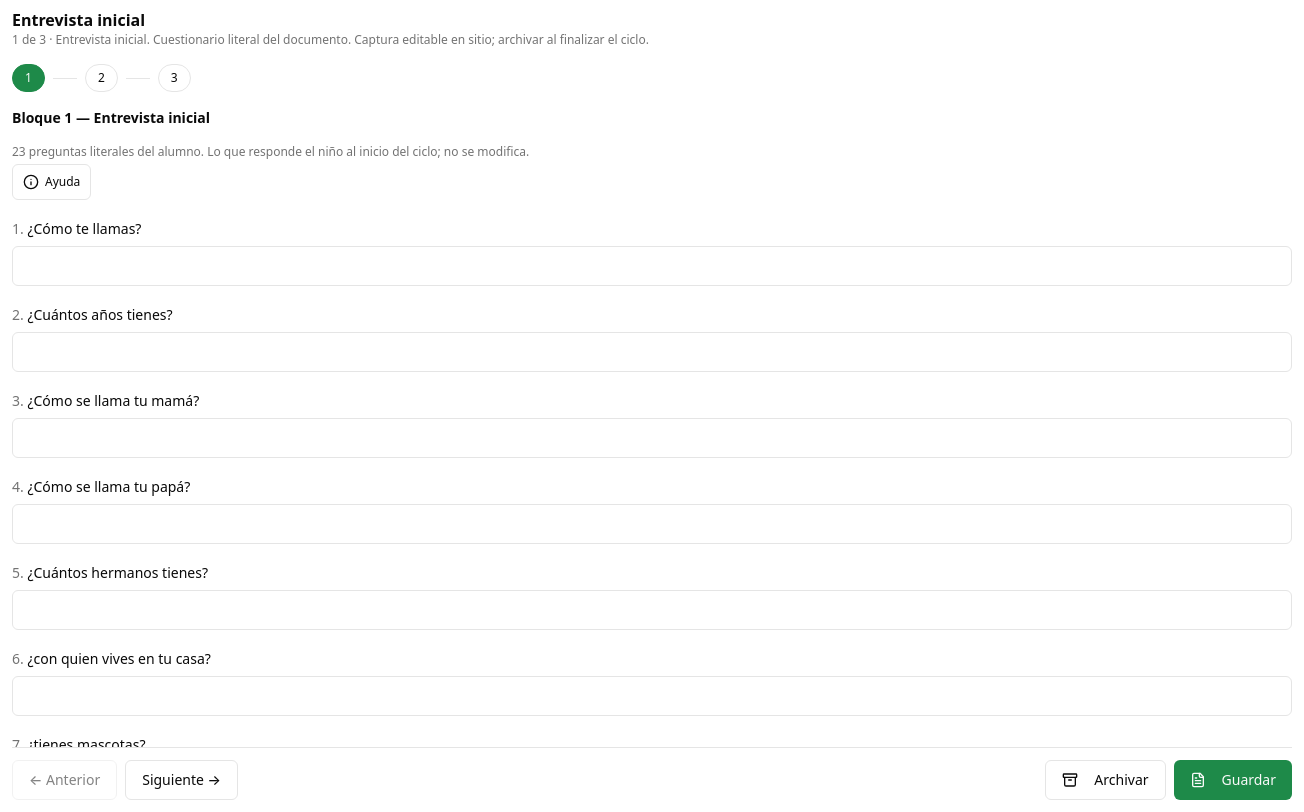
Test case: EntrevistaInicialForm — IMPL-20260821-01 (stepper UX) › DEC-20260821-02 — guía contextual por bloque › el tooltip abre con clic, muestra "qué se captura / para qué / quién / no-IA", y cierra con Escape
Step 1. Click the button with test id "section-help-infantil-bloque-1-button" → (52, 182), box [12,164,91,200]
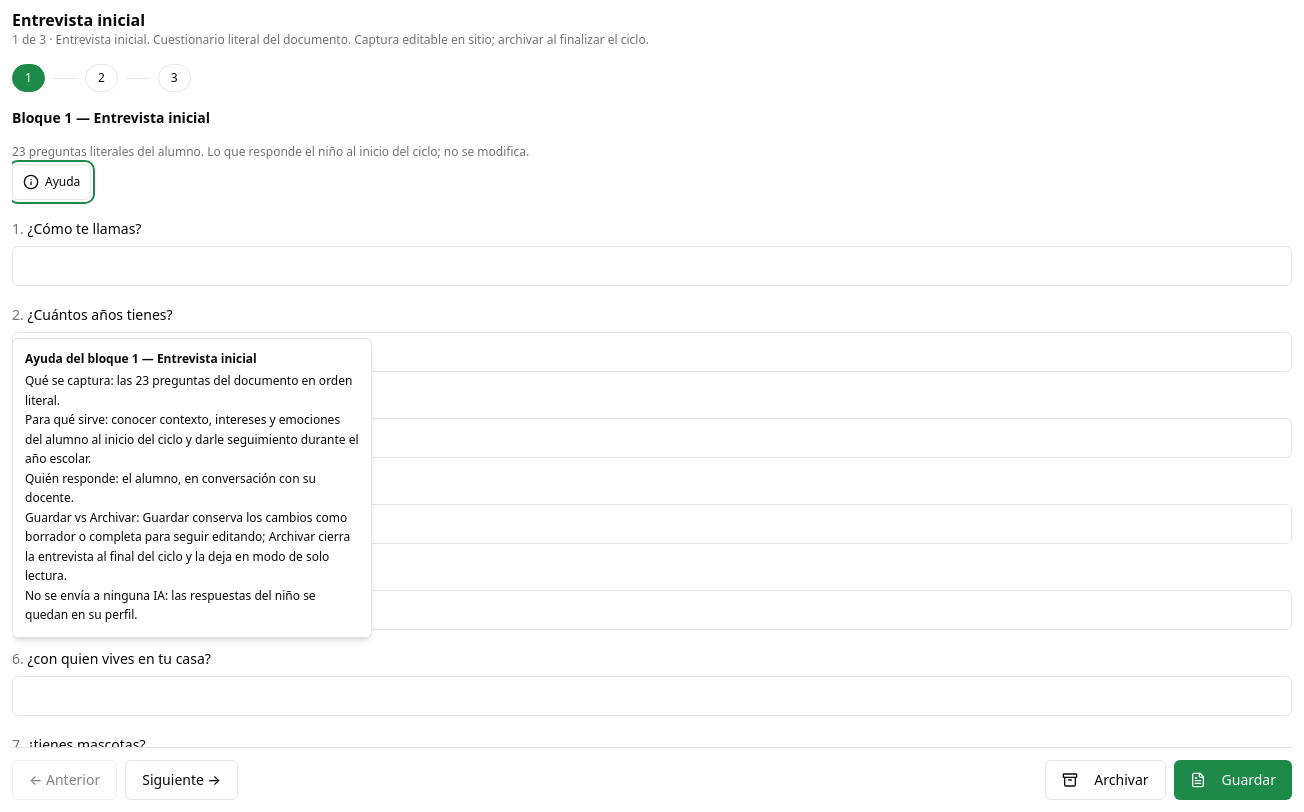
Result: the tooltip with test id "section-help-infantil-bloque-1-panel" shows "Guardar vs Archivar" at [25,372,358,623]
Note: Escape cierra y devuelve el foco.
Step 2. Press Escape
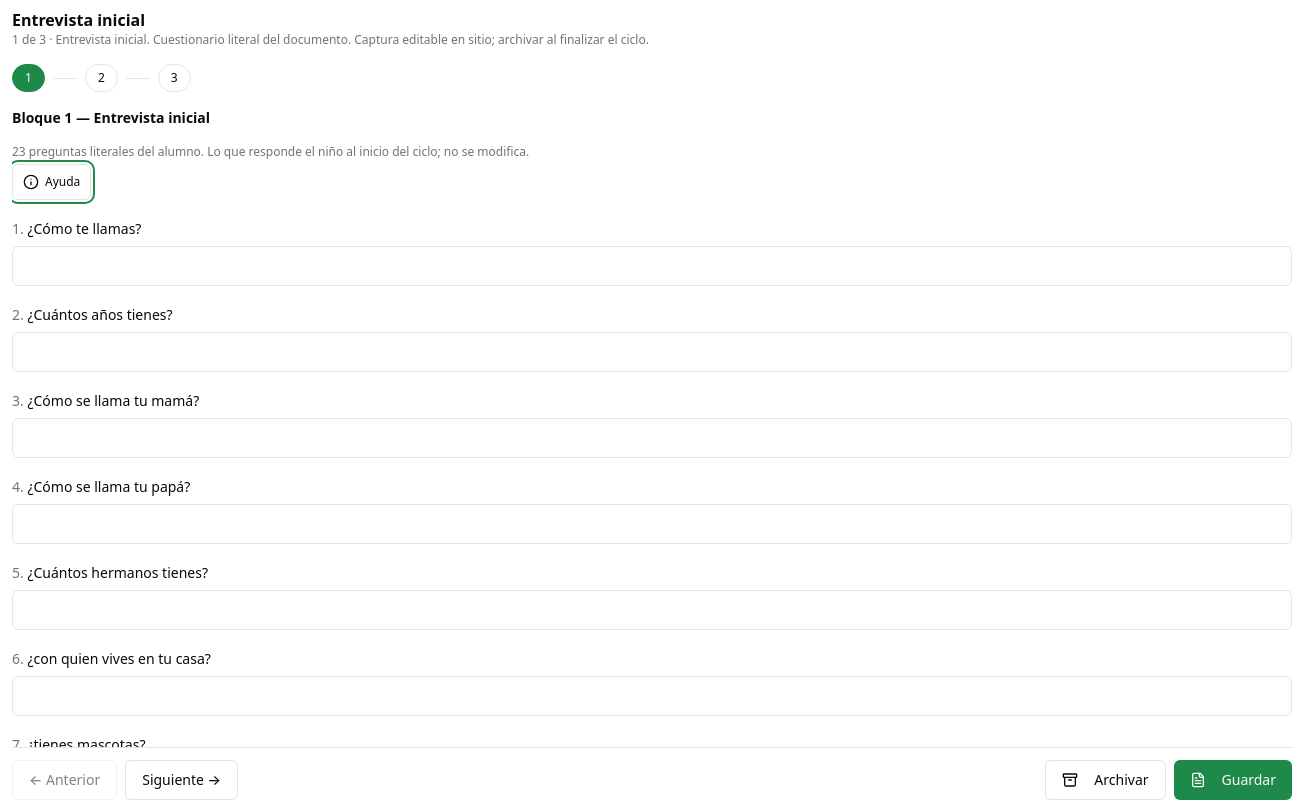
Result: the tooltip with test id "section-help-infantil-bloque-1-panel" is gone
